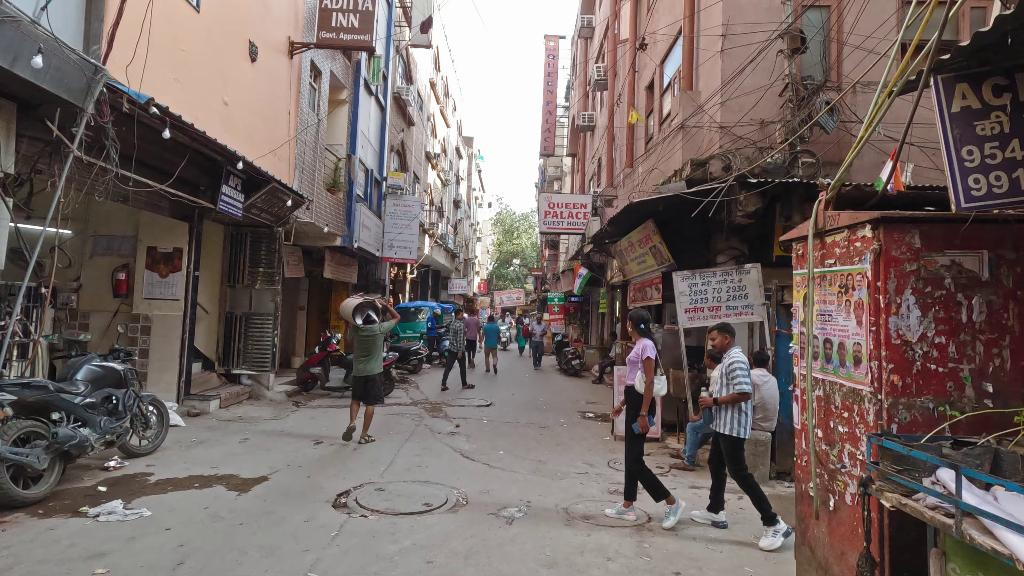garbage: (80, 495, 154, 522)
